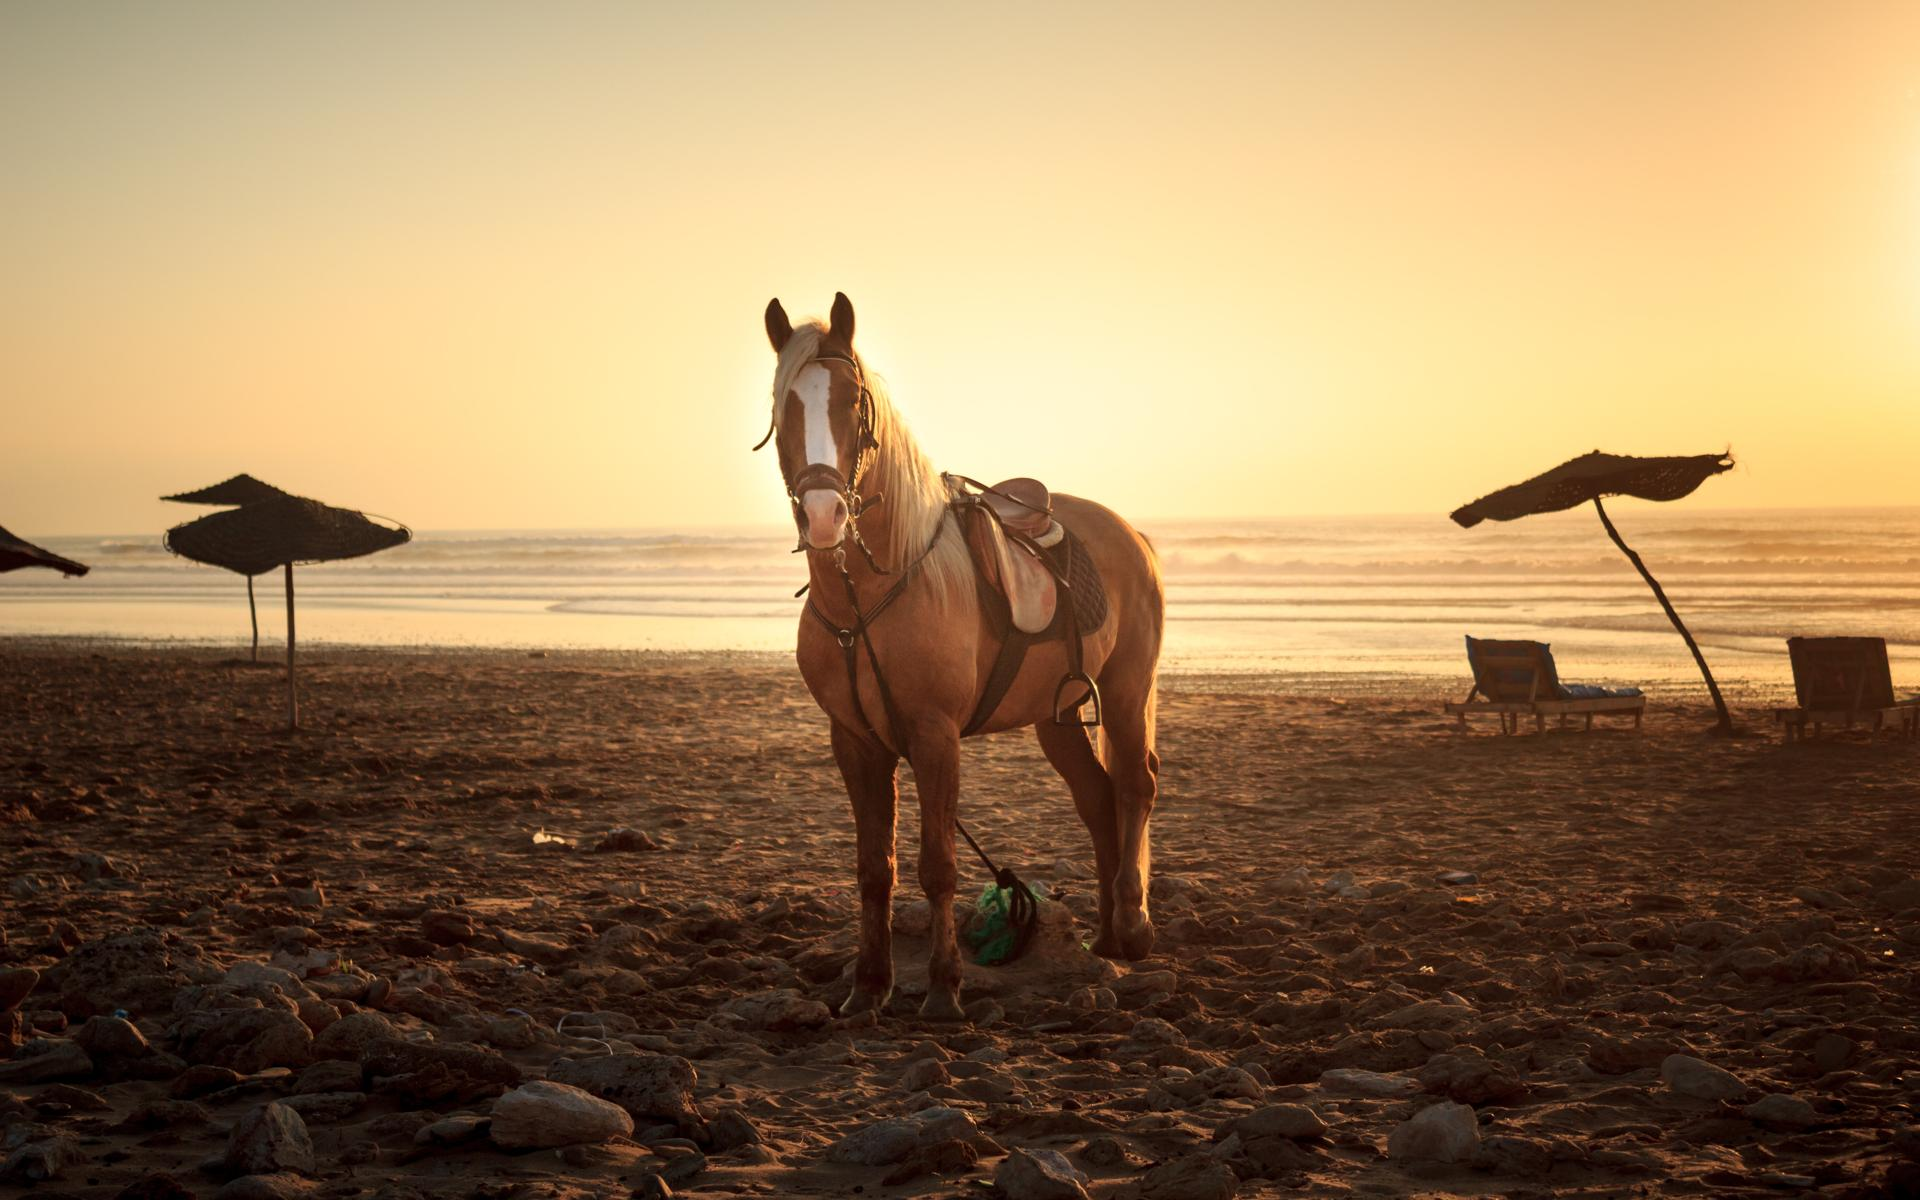horse: (753, 290, 1167, 1027)
